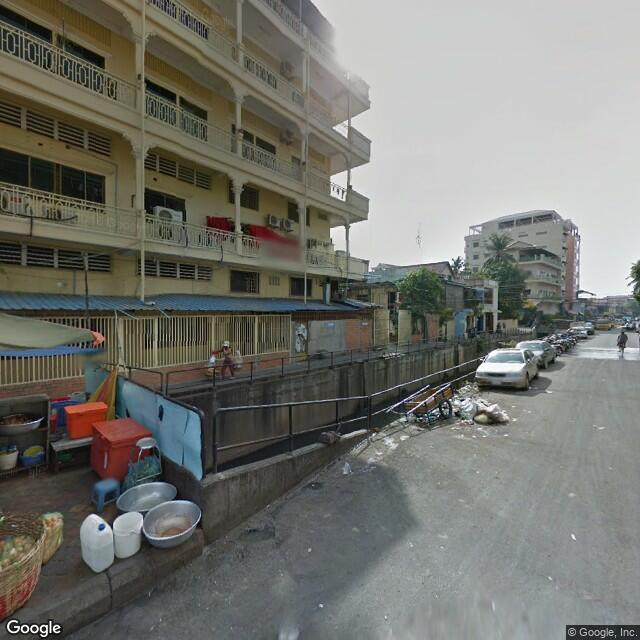litter: (460, 394, 514, 431), (331, 462, 364, 480), (307, 595, 332, 613), (562, 525, 582, 547), (304, 539, 314, 557), (428, 410, 438, 423), (530, 383, 539, 393), (545, 387, 552, 396)
